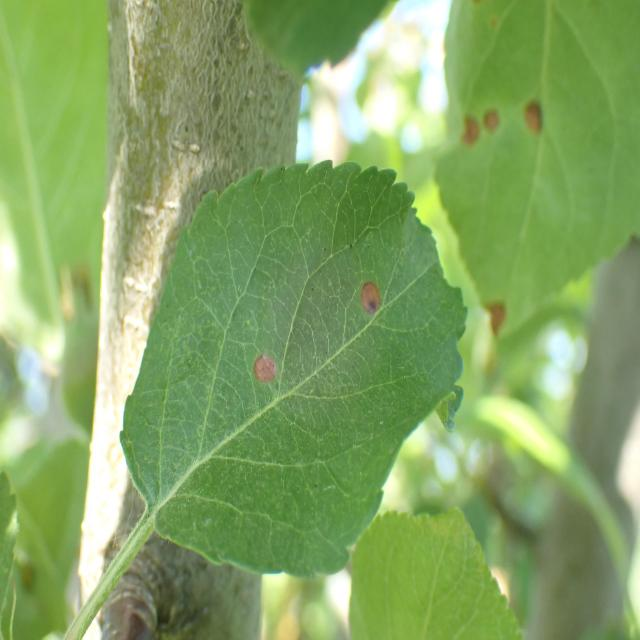frog-eye-leaf-spot: (118, 160, 468, 580), (434, 0, 640, 340)
